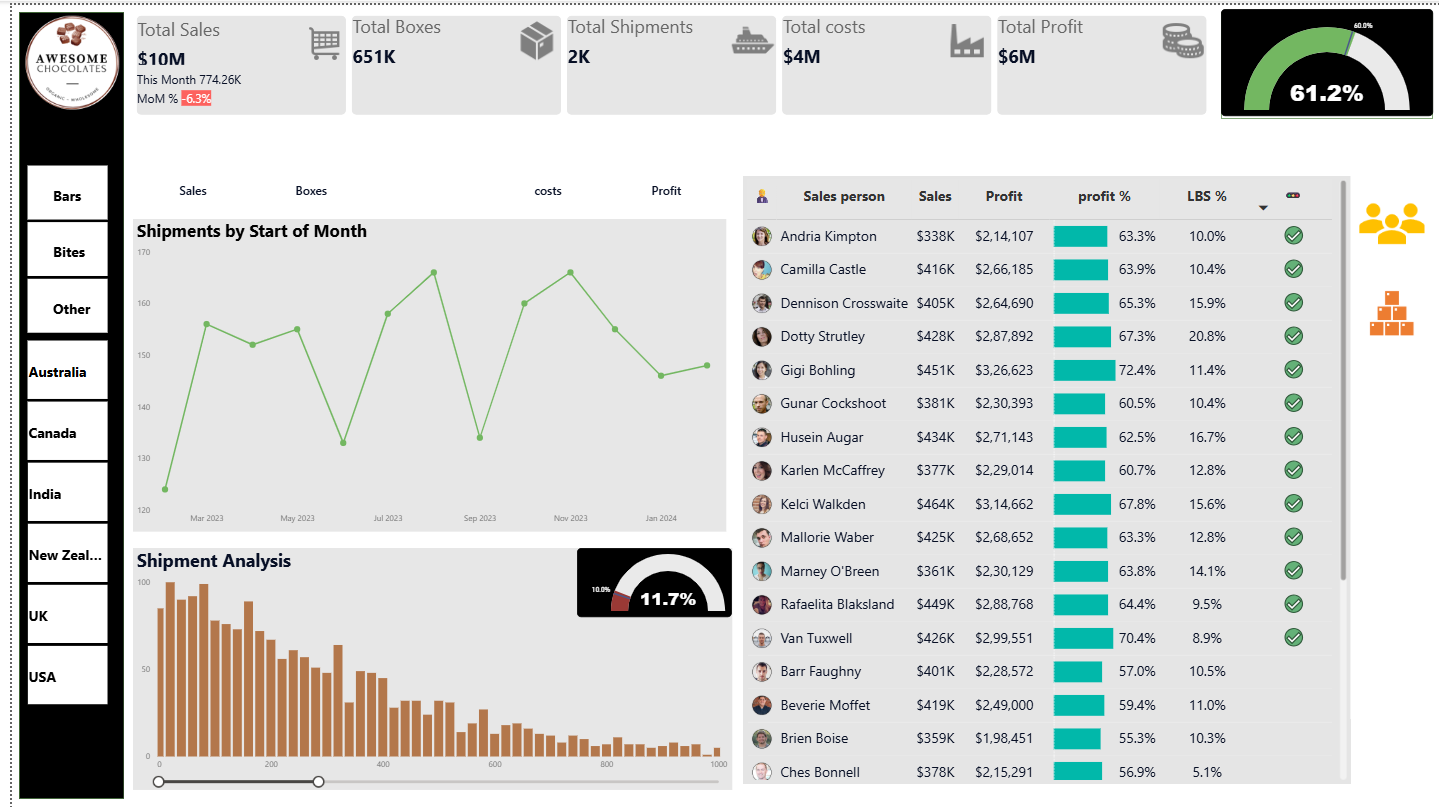

What the dashboard file says about the page in this screenshot:
{"tool":"powerbi","page":{"name":"Sales Report","canvas":[1920,1080],"ordinal":2},"visuals":[{"type":"shape","box":[10,10,141.4,1057.1],"z":0},{"type":"cardVisual","fields":{"Data":["Measure.Total Sales","Measure.Total Boxes","Measure.Total Shipments","Measure.Total costs","Measure.Total Profit"]},"box":[162.5,9.4,1448.1,143.7],"z":1000},{"type":"shape","box":[1624,9.4,284.8,143.7],"z":2000},{"type":"gauge","fields":{"Y":["Measure.profit %"]},"box":[1624,5.4,284.8,143.7],"z":3000},{"type":"image","box":[0,9.4,162.5,135.7],"z":4000},{"type":"lineChart","fields":{"Y":["Measure.Total Shipments"],"Category":["calendar.Start of Month"]},"box":[162.9,287.1,797.1,420],"z":5000},{"type":"advancedSlicerVisual","fields":{"Values":["Measure Selector.Measure Selector"]},"box":[162.9,211.4,797.1,74.3],"z":6000},{"type":"columnChart","title":"Shipment Analysis","fields":{"Category":["shipments.Boxes (bins)"],"Y":["Measure.Total Shipments"]},"box":[162.5,729.4,804.6,325.1],"z":7000},{"type":"gauge","fields":{"Y":["Measure.LBS %"]},"box":[759,729.4,208.2,92.7],"z":8000},{"type":"tableEx","title":" People Detail","fields":{"Values":["people.Picture","people.Sales person","Measure.Total Sales","Measure.Total Profit","Measure.profit %","Measure.LBS %","Measure.Profit Target Indicator"]},"box":[981.4,230,815.7,815.7],"z":10000},{"type":"image","title":"People","box":[1798.6,230,110,128.6],"z":11000},{"type":"image","title":"Product","box":[1801.8,370.2,103.5,86],"z":12000},{"type":"listSlicer","fields":{"Values":["products.Category"]},"box":[15.7,211.4,130,234.3],"z":13000},{"type":"listSlicer","fields":{"Values":["shipments.Geography"]},"box":[15.7,445.7,130,500],"z":14000}]}

Visuals, with their boxes in screenshot pixels (x1, y1, x2, y2), scaled from the page's 1920x1080 canvas onto the 1439x807 screenshot:
shape: left=7, top=7, right=113, bottom=797
cardVisual - Measure.Total Sales x Measure.Total Boxes: left=122, top=7, right=1207, bottom=114
shape: left=1217, top=7, right=1431, bottom=114
gauge - Measure.profit %: left=1217, top=4, right=1431, bottom=111
image: left=0, top=7, right=122, bottom=108
lineChart - Measure.Total Shipments x calendar.Start of Month: left=122, top=215, right=720, bottom=528
advancedSlicerVisual - Measure Selector.Measure Selector: left=122, top=158, right=720, bottom=213
"Shipment Analysis" columnChart: left=122, top=545, right=725, bottom=788
gauge - Measure.LBS %: left=569, top=545, right=725, bottom=614
" People Detail" tableEx: left=736, top=172, right=1347, bottom=781
"People" image: left=1348, top=172, right=1430, bottom=268
"Product" image: left=1350, top=277, right=1428, bottom=341
listSlicer - products.Category: left=12, top=158, right=109, bottom=333
listSlicer - shipments.Geography: left=12, top=333, right=109, bottom=707
